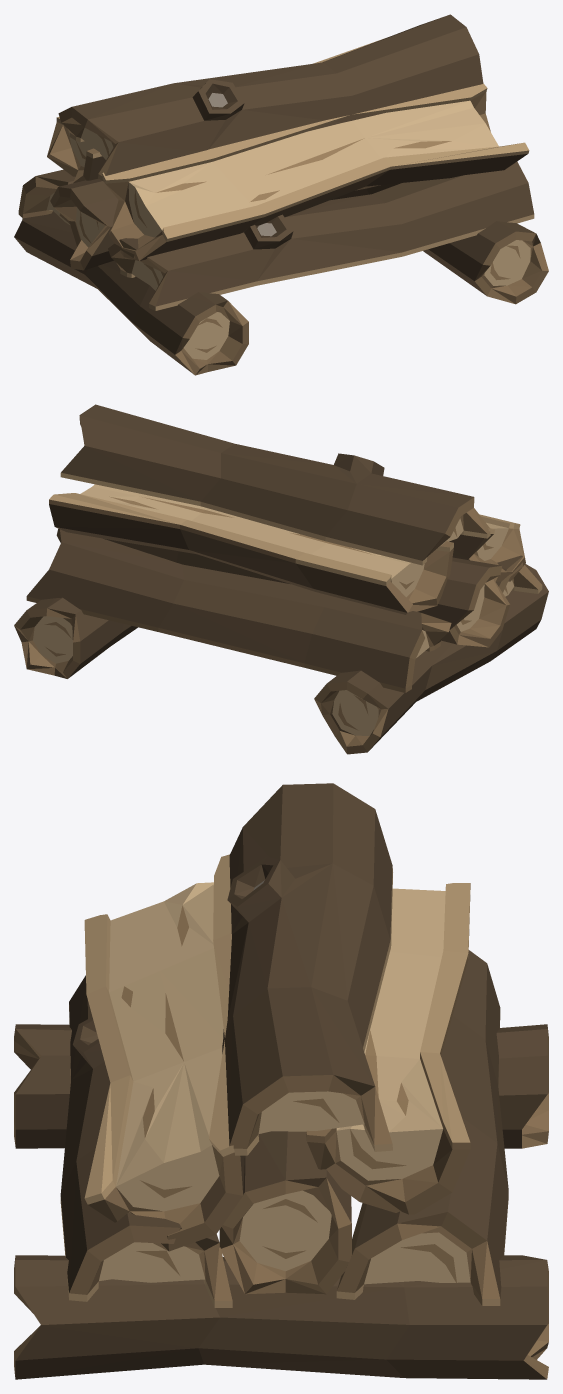
Rendered from SM_Prop_Logpile_01.fbx.
The picture shows the model from 3 angles, top to bottom: view 1: azimuth 30°, elevation 25°; view 2: azimuth 150°, elevation 25°; view 3: azimuth 270°, elevation 25°; orthographic projection. The views are drawn at different scales.
Visible parts, largest first — view 1: SM_Prop_Logpile_01; view 2: SM_Prop_Logpile_01; view 3: SM_Prop_Logpile_01.
Part boxes in pixels (x1,y1,x2,y2): SM_Prop_Logpile_01: [14, 14, 548, 375]; SM_Prop_Logpile_01: [14, 404, 548, 754]; SM_Prop_Logpile_01: [14, 783, 548, 1379].
Size of the model in its own units: 0.0268 by 0.0141 by 0.0198.
Materials: 1 (1 with a texture image).
